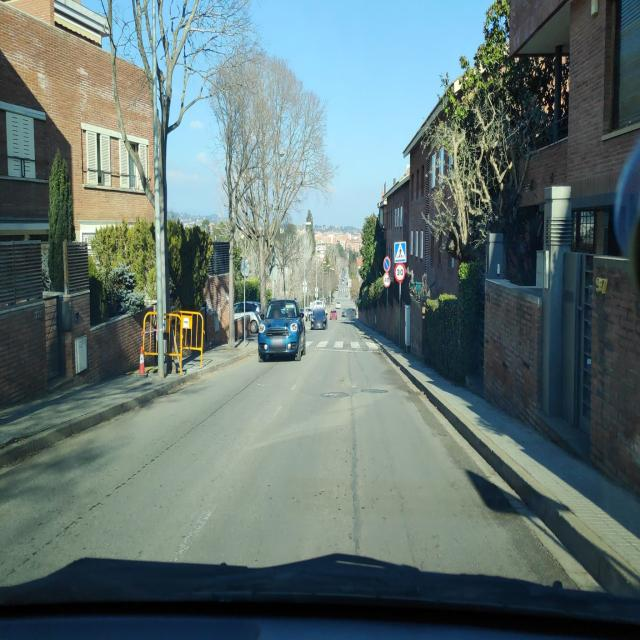forb_stopping: (382, 256, 391, 273)
